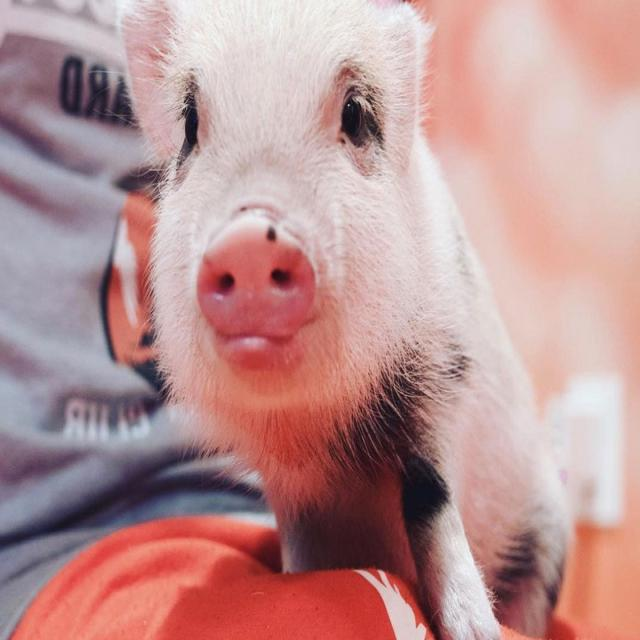pig: (119, 0, 569, 639)
